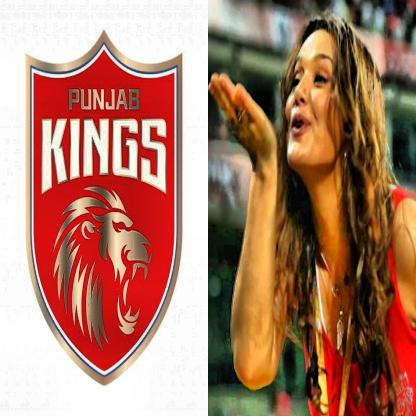Punjab Kings: (26, 24, 181, 384)
